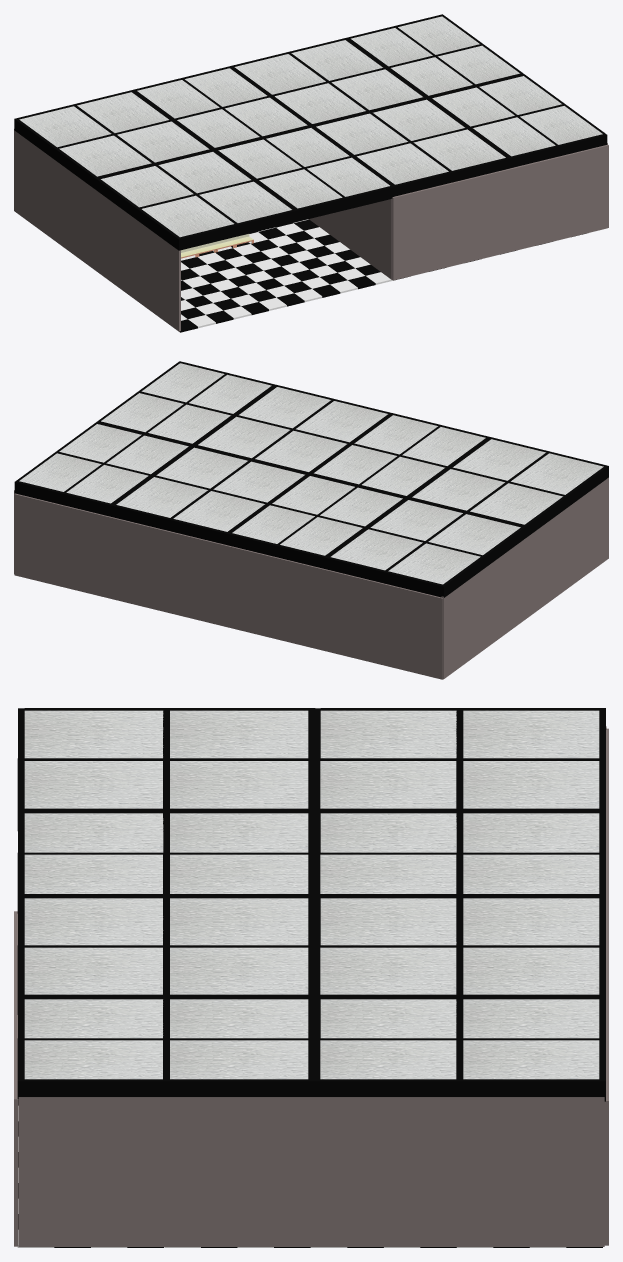
File: ROTTEMARKETMAPAv1.fbx
3 views of the same model, one above another, from view 1: azimuth 30°, elevation 25°; view 2: azimuth 150°, elevation 25°; view 3: azimuth 270°, elevation 25° (orthographic). The views are drawn at different scales.
Visible parts, largest first — view 1: Pared, Pared.003, Techo telgopor.007, Techo telgopor, Techo telgopor.004, Techo telgopor.003, Techo telgopor.006, Techo telgopor.001, Techo telgopor.005, Techo telgopor.002, Pared.002, PisoValdosa.006 (+6 smaller); view 2: Pared.004, Pared.003, Techo telgopor.004, Techo telgopor.003, Techo telgopor.007, Techo telgopor, Techo telgopor.005, Techo telgopor.002, Techo telgopor.006, Techo telgopor.001; view 3: Pared.001, Techo telgopor.007, Techo telgopor, Techo telgopor.001, Techo telgopor.004, Techo telgopor.003, Techo telgopor.002, Techo telgopor.006, Techo telgopor.005, Pared.004, Pared.
Boxes of the visible parts, left/top/right/bottom form: Pared: left=392, top=144, right=608, bottom=280; Pared.003: left=14, top=129, right=180, bottom=331; Techo telgopor.007: left=95, top=149, right=297, bottom=250; Techo telgopor: left=311, top=97, right=510, bottom=196; Techo telgopor.004: left=14, top=90, right=213, bottom=189; Techo telgopor.003: left=230, top=38, right=426, bottom=125; Techo telgopor.006: left=214, top=126, right=394, bottom=221; Techo telgopor.001: left=428, top=74, right=607, bottom=167; Techo telgopor.005: left=133, top=66, right=310, bottom=149; Techo telgopor.002: left=346, top=14, right=523, bottom=97; Pared.002: left=309, top=199, right=392, bottom=279; PisoValdosa.006: left=211, top=266, right=322, bottom=314; Pared.004: left=14, top=493, right=442, bottom=679; Pared.003: left=441, top=477, right=608, bottom=679; Techo telgopor.004: left=325, top=498, right=525, bottom=597; Techo telgopor.003: left=111, top=446, right=309, bottom=545; Techo telgopor.007: left=407, top=437, right=608, bottom=537; Techo telgopor: left=193, top=385, right=392, bottom=473; Techo telgopor.005: left=227, top=474, right=406, bottom=568; Techo telgopor.002: left=14, top=422, right=192, bottom=516; Techo telgopor.006: left=309, top=413, right=489, bottom=497; Techo telgopor.001: left=96, top=361, right=275, bottom=445; Pared.001: left=18, top=1097, right=604, bottom=1246; Techo telgopor.007: left=17, top=708, right=315, bottom=830; Techo telgopor: left=17, top=895, right=315, bottom=1014; Techo telgopor.001: left=17, top=997, right=315, bottom=1101; Techo telgopor.004: left=315, top=708, right=605, bottom=811; Techo telgopor.003: left=315, top=895, right=605, bottom=997; Techo telgopor.002: left=313, top=997, right=605, bottom=1101; Techo telgopor.006: left=17, top=811, right=315, bottom=913; Techo telgopor.005: left=315, top=811, right=605, bottom=896; Pared.004: left=604, top=728, right=608, bottom=1245; Pared: left=14, top=911, right=18, bottom=1246.
Size of the model in its own units: 21113 by 4399 by 14192.
704 materials, 118 textured.
